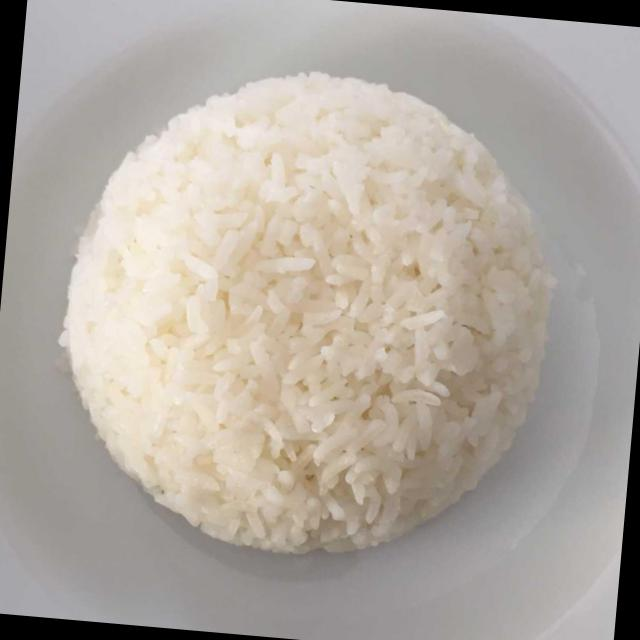rice: (66, 73, 549, 555)
